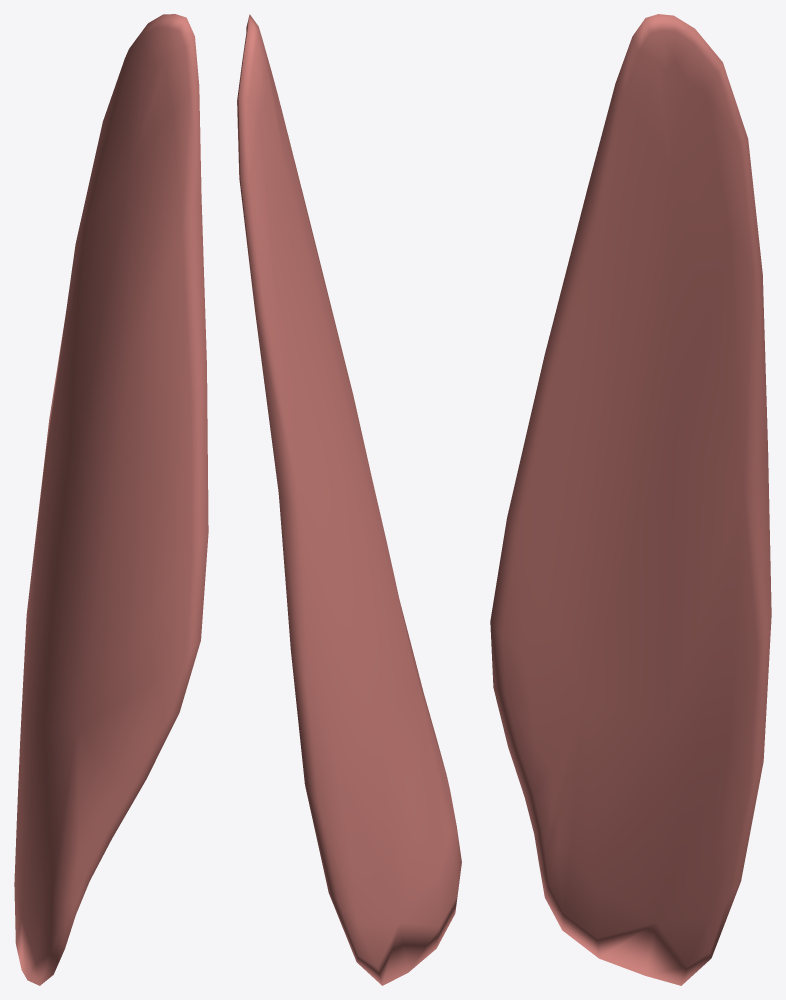
The picture shows the model from 3 angles, left to right: view 1: azimuth 30°, elevation 25°; view 2: azimuth 150°, elevation 25°; view 3: azimuth 270°, elevation 25°; orthographic projection. The views are drawn at different scales.
Visible parts, largest first — view 1: ZA_21423558d0d82731; view 2: ZA_21423558d0d82731; view 3: ZA_21423558d0d82731.
Boxes of the visible parts, x1,y1,x2,y2 form: ZA_21423558d0d82731: (14,14,208,985); ZA_21423558d0d82731: (237,14,461,985); ZA_21423558d0d82731: (490,14,771,985).
Bounding box in the file's own units: 0.00526 × 0.0266 × 0.00644.
